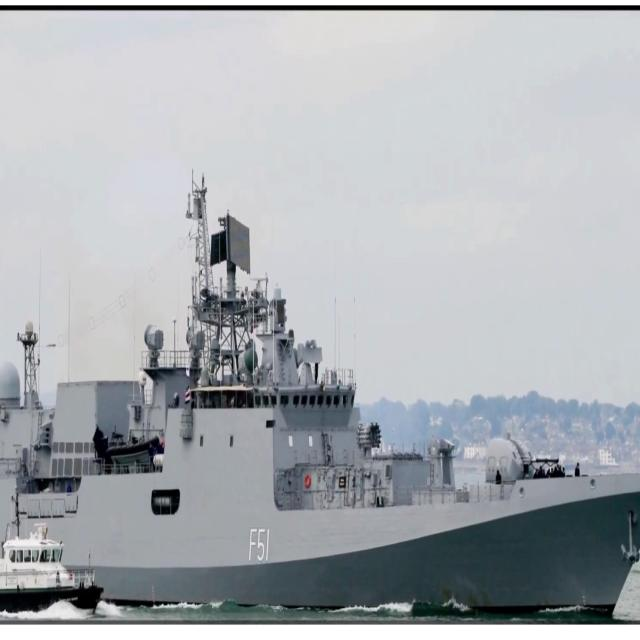OCR: (246, 520, 280, 572)
